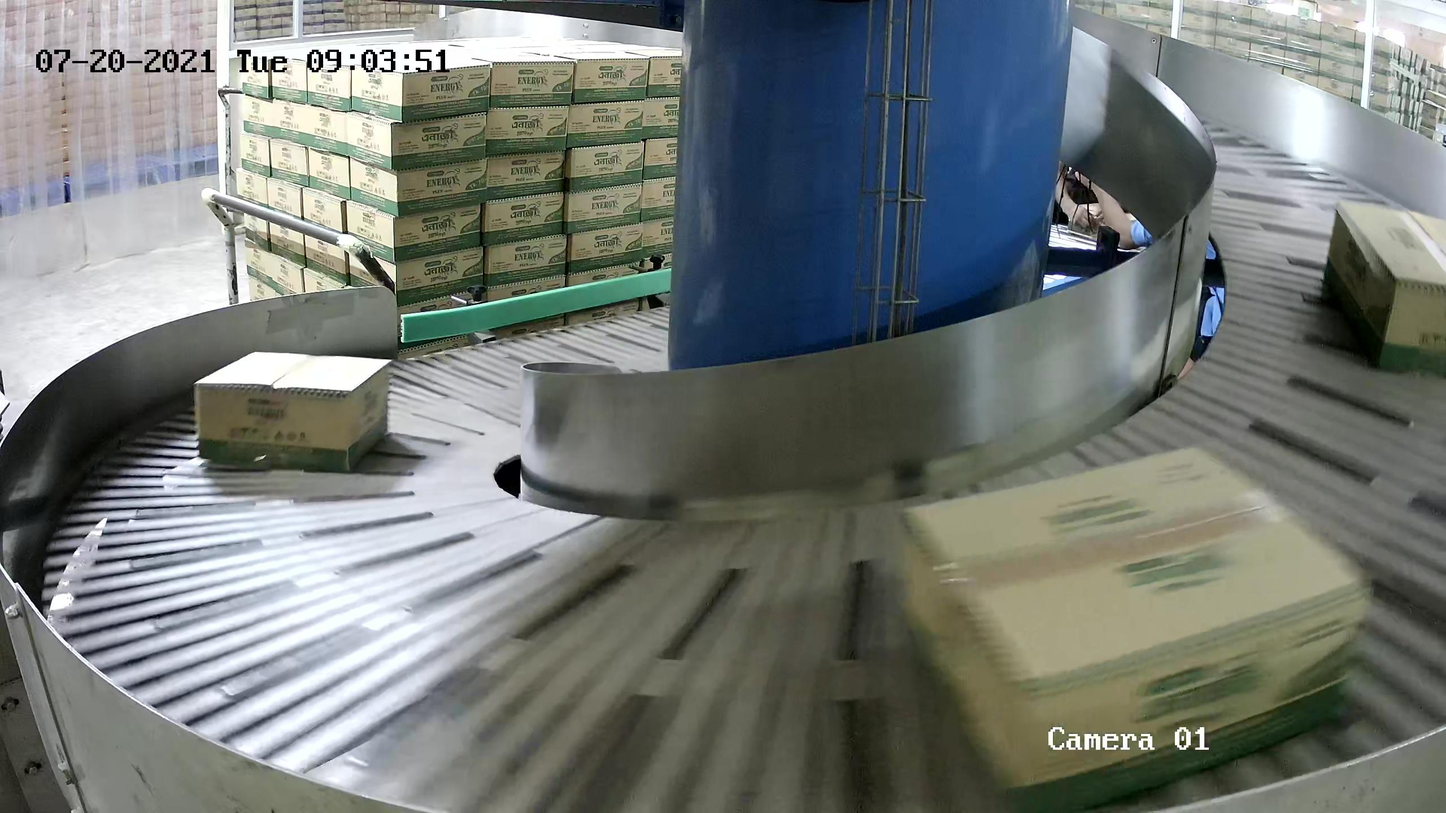Box: (889, 444, 1380, 813), (192, 352, 391, 472), (1322, 196, 1446, 375)
